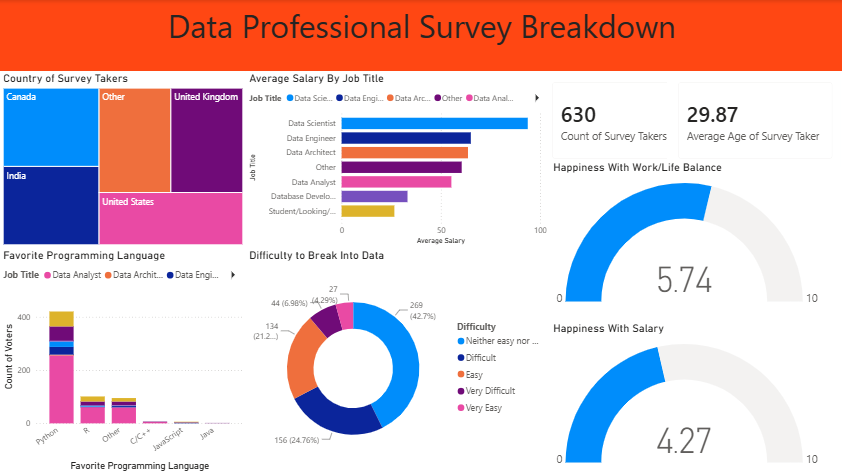

The page's visual inventory and layout, read from the dashboard file:
{"tool":"powerbi","page":{"name":"Page 1","canvas":[1280,720],"ordinal":0},"visuals":[{"type":"textbox","box":[0,0,1280,107.7],"z":0},{"type":"cardVisual","fields":{"Data":["Count(Data Professional Survey.Unique ID)"]},"box":[820.5,107.7,242.7,150.1],"z":1000},{"type":"cardVisual","fields":{"Data":["Avg(Data Professional Survey.Q10 - Current Age)"]},"box":[1011.6,107.7,268.4,150.1],"z":2000},{"type":"barChart","title":"Average Salary By Job Title","fields":{"Category":["Data Professional Survey.Q1 - Which Title Best Fits your Current Role?.1"],"Y":["Avg(Data Professional Survey.Average Salary)"],"Series":["Data Professional Survey.Q1 - Which Title Best Fits your Current Role?.1"]},"box":[373.1,107.7,461,268.4],"z":3000},{"type":"columnChart","title":"Favorite Programming Language","fields":{"Category":["Data Professional Survey.Q5 - Favorite Programming Language.1"],"Y":["CountNonNull(Data Professional Survey.Unique ID)"],"Series":["Data Professional Survey.Q1 - Which Title Best Fits your Current Role?.1"]},"box":[0,376.1,373.1,344.3],"z":4000},{"type":"treemap","title":"Country of Survey Takers","fields":{"Group":["Data Professional Survey.Q11 - Which Country do you live in?.1"],"Values":["Count(Data Professional Survey.Q11 - Which Country do you live in?.1)"]},"box":[0,107.7,373.1,268.4],"z":5000},{"type":"gauge","title":"Happiness With Work/Life Balance","fields":{"Y":["Avg(Data Professional Survey.Q6 - How Happy are you in your Current Position with the following? (Work/Life Balance))"],"MinValue":["Min(Data Professional Survey.Q6 - How Happy are you in your Current Position with the following? (Work/Life Balance))1"],"MaxValue":["Max(Data Professional Survey.Q6 - How Happy are you in your Current Position with the following? (Work/Life Balance))2"]},"box":[834.1,242.7,415.5,233.6],"z":6000},{"type":"gauge","title":"Happiness With Salary","fields":{"Y":["Avg(Data Professional Survey.Q6 - How Happy are you in your Current Position with the following? (Salary))"],"MinValue":["Min(Data Professional Survey.Q6 - How Happy are you in your Current Position with the following? (Salary))1"],"MaxValue":["Max(Data Professional Survey.Q6 - How Happy are you in your Current Position with the following? (Salary))2"]},"box":[834.1,486.8,415.5,233.6],"z":7000},{"type":"donutChart","title":"Difficulty to Break Into Data","fields":{"Category":["Data Professional Survey.Q7 - How difficult was it for you to break into Data?"],"Y":["CountNonNull(Data Professional Survey.Q7 - How difficult was it for you to break into Data?)"]},"box":[373.1,376.1,461,344.3],"z":8000}]}

Visuals, with their boxes in screenshot pixels (x1, y1, x2, y2), scaled from the page's 1280x720 canvas onto the 842x471 screenshot:
textbox: [left=0, top=0, right=841, bottom=70]
cardVisual - Count(Data Professional Survey.Unique ID): [left=540, top=70, right=699, bottom=169]
cardVisual - Avg(Data Professional Survey.Q10 - Current Age): [left=665, top=70, right=841, bottom=169]
"Average Salary By Job Title" barChart: [left=245, top=70, right=549, bottom=246]
"Favorite Programming Language" columnChart: [left=0, top=246, right=245, bottom=470]
"Country of Survey Takers" treemap: [left=0, top=70, right=245, bottom=246]
"Happiness With Work/Life Balance" gauge: [left=549, top=159, right=822, bottom=312]
"Happiness With Salary" gauge: [left=549, top=318, right=822, bottom=470]
"Difficulty to Break Into Data" donutChart: [left=245, top=246, right=549, bottom=470]
